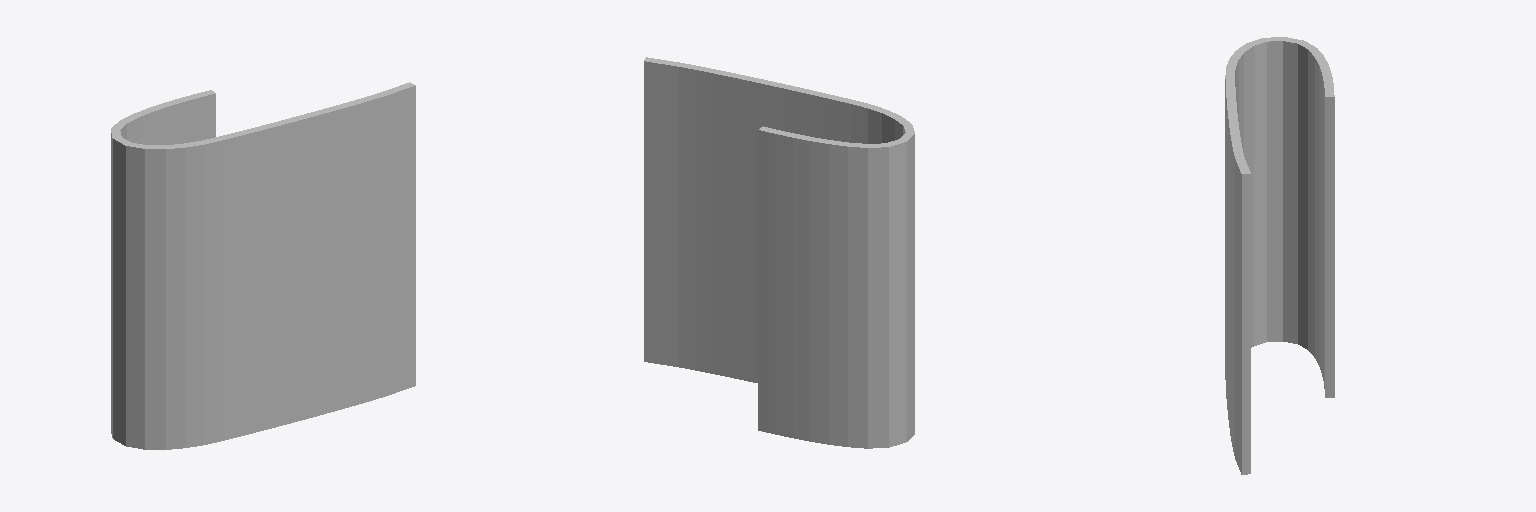
Rendered from Scroll5.obj.
The picture shows the model from 3 angles: view 1: azimuth 30°, elevation 25°; view 2: azimuth 150°, elevation 25°; view 3: azimuth 270°, elevation 25°; orthographic projection.
Visible parts, largest first — view 1: Cube_Cube.001; view 2: Cube_Cube.001; view 3: Cube_Cube.001.
Part boxes in pixels (bbox=[...]): Cube_Cube.001: bbox=[111, 82, 415, 449]; Cube_Cube.001: bbox=[644, 57, 914, 448]; Cube_Cube.001: bbox=[1225, 37, 1334, 474].
Bounding box in the file's own units: 4.53 × 4.62 × 1.52.